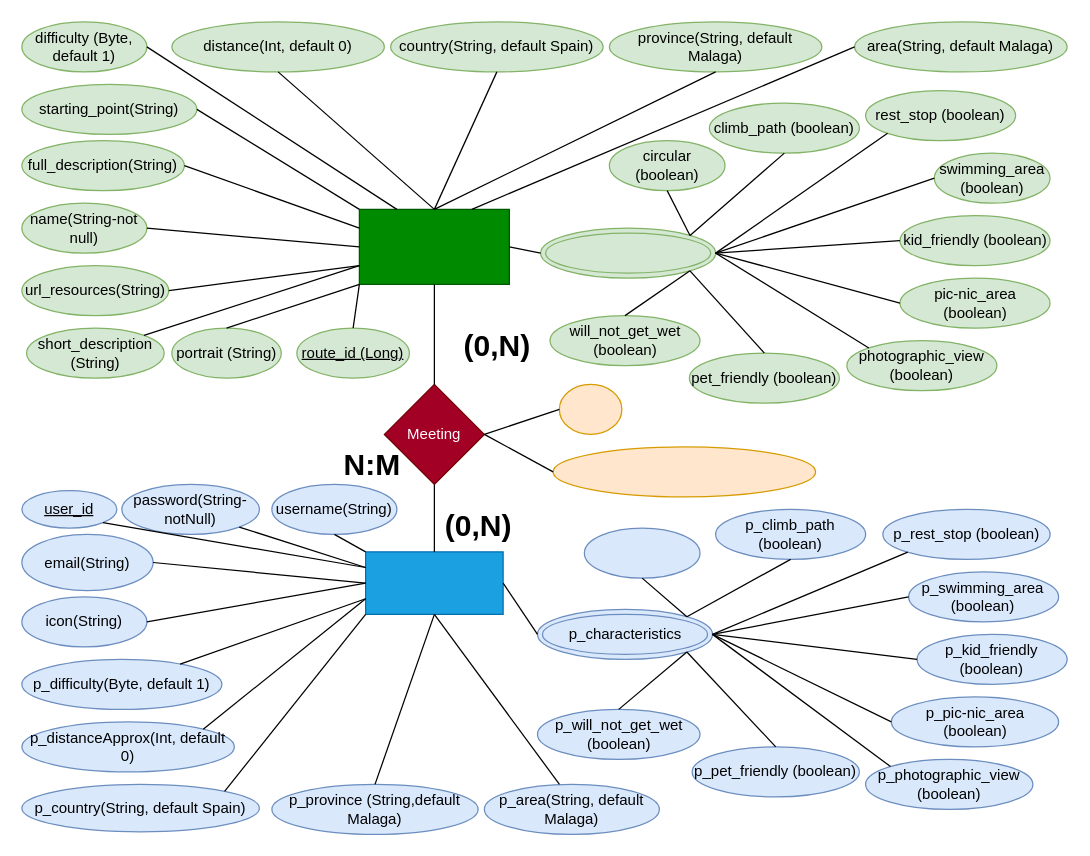
The diagram is 1090 pixels wide and 856 high, and some of its shapes have lost their labels. Here are the shapes that lost their labels. From the top down, the centre of each, then its label:
(x=433, y=246): Route
(x=627, y=252): characteristics
(x=590, y=408): Id
(x=684, y=471): Date (LocalDateTime, default CURRENT_TIMESTAMP)
(x=641, y=552): p_circular (boolean)
(x=433, y=582): User
